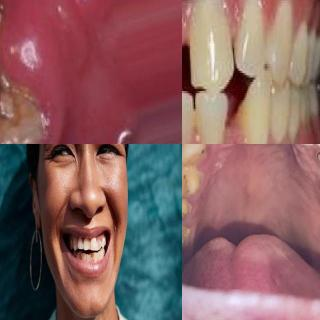Gum Swelling: (0, 0, 100, 144)
calculus: (182, 159, 206, 199), (182, 144, 210, 174), (184, 106, 209, 138), (182, 185, 194, 225)
maligned: (238, 73, 276, 144), (232, 0, 266, 76), (182, 79, 192, 144), (85, 252, 91, 261), (89, 252, 94, 262), (77, 252, 83, 260), (96, 240, 100, 249)
stains: (311, 144, 320, 176), (89, 252, 95, 260)
